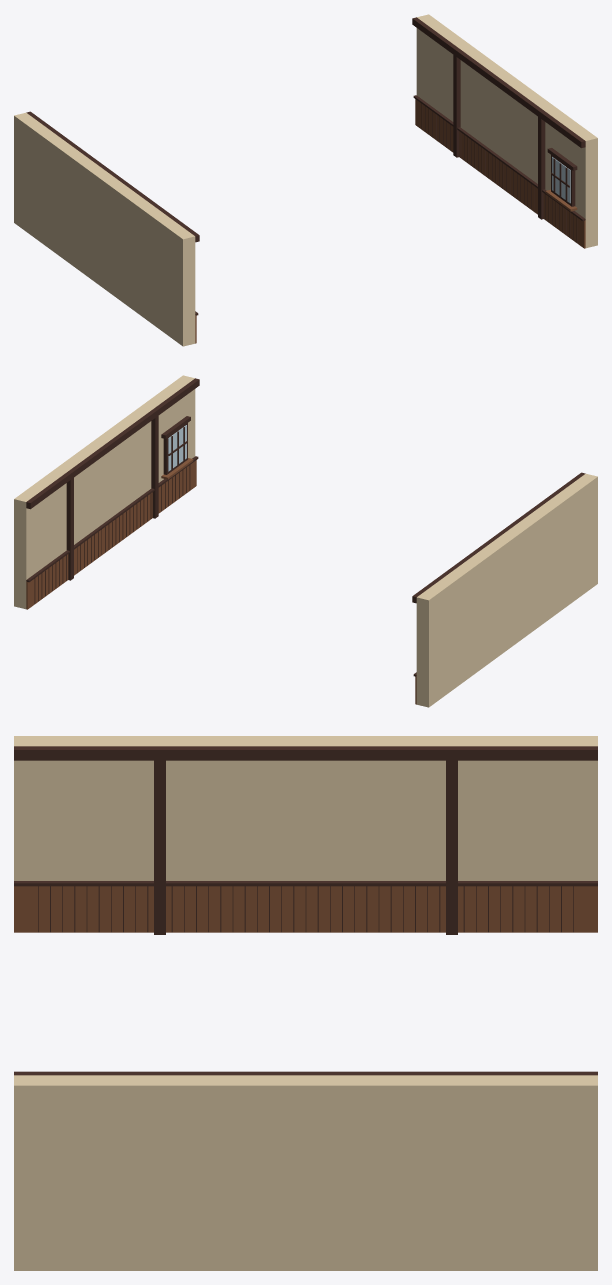
The model's file is inn_walls_ew.glb.
3 renders of one model, top to bottom at view 1: azimuth 30°, elevation 25°; view 2: azimuth 150°, elevation 25°; view 3: azimuth 270°, elevation 25°, orthographic. The views are drawn at different scales.
Visible parts, largest first — view 1: wall; view 2: wall; view 3: wall.
Part boxes in pixels (x1,y1,x2,y2): wall: (14,14,597,346); wall: (14,375,597,707); wall: (14,736,597,1270).
Bounding box in the file's own units: 17 × 4.2 × 12.
